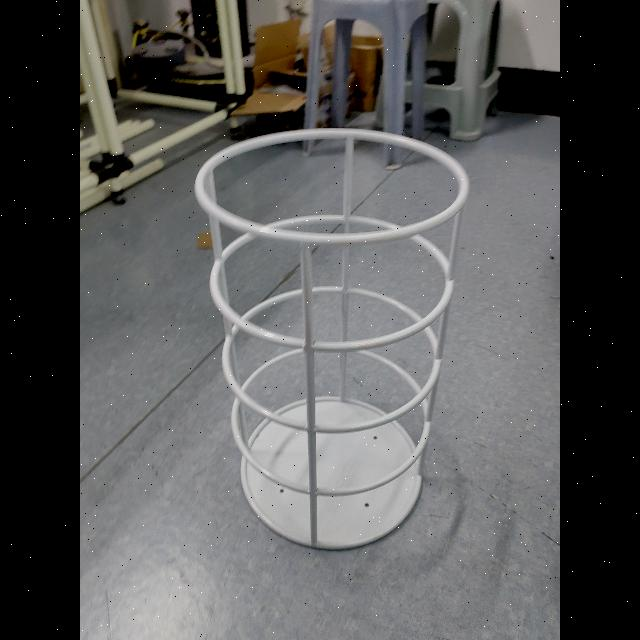S: (188, 121, 478, 559)
